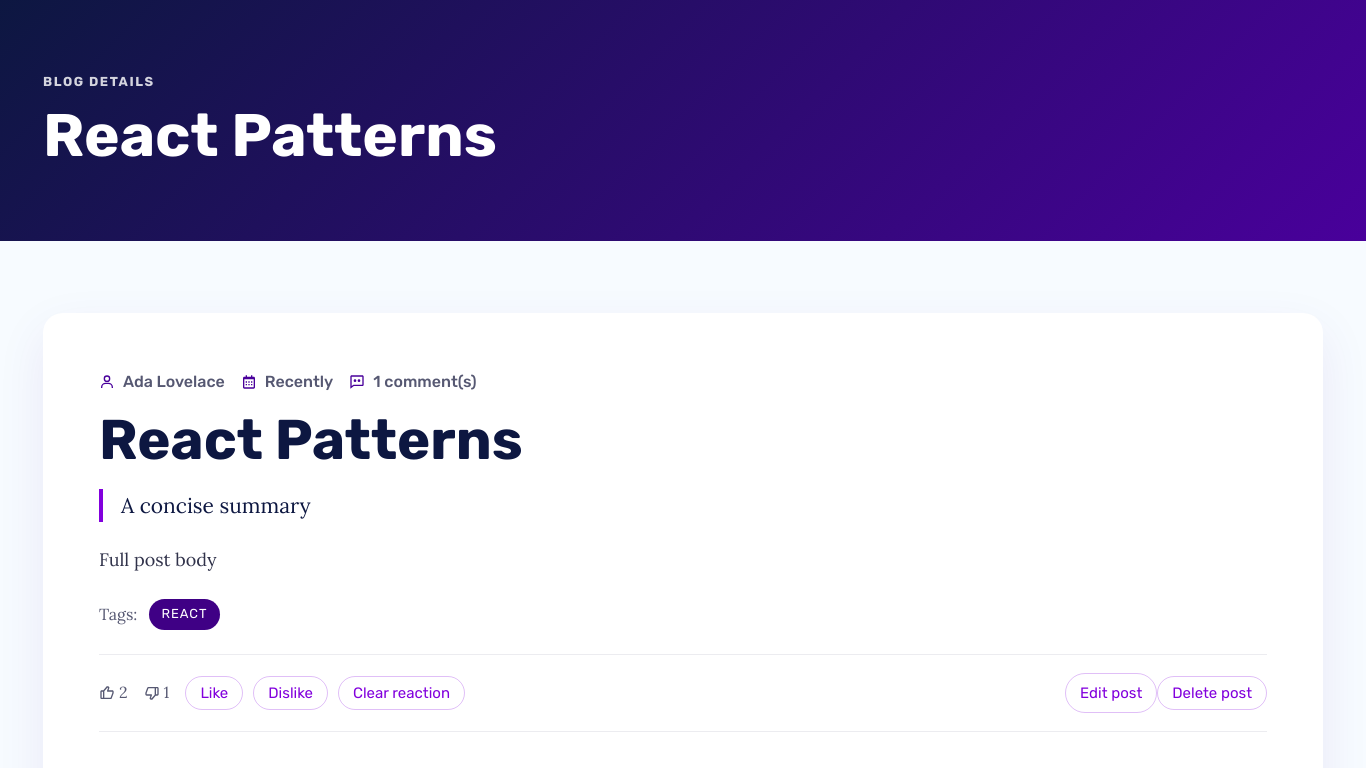
Test: SingleBlogPage workflows › shows delete failures without navigating away
Expected: the link "Edit post" is shown, [1065,673,1157,713]
Click the button "Delete post".
click(1212, 693)  # box [1157,676,1267,710]
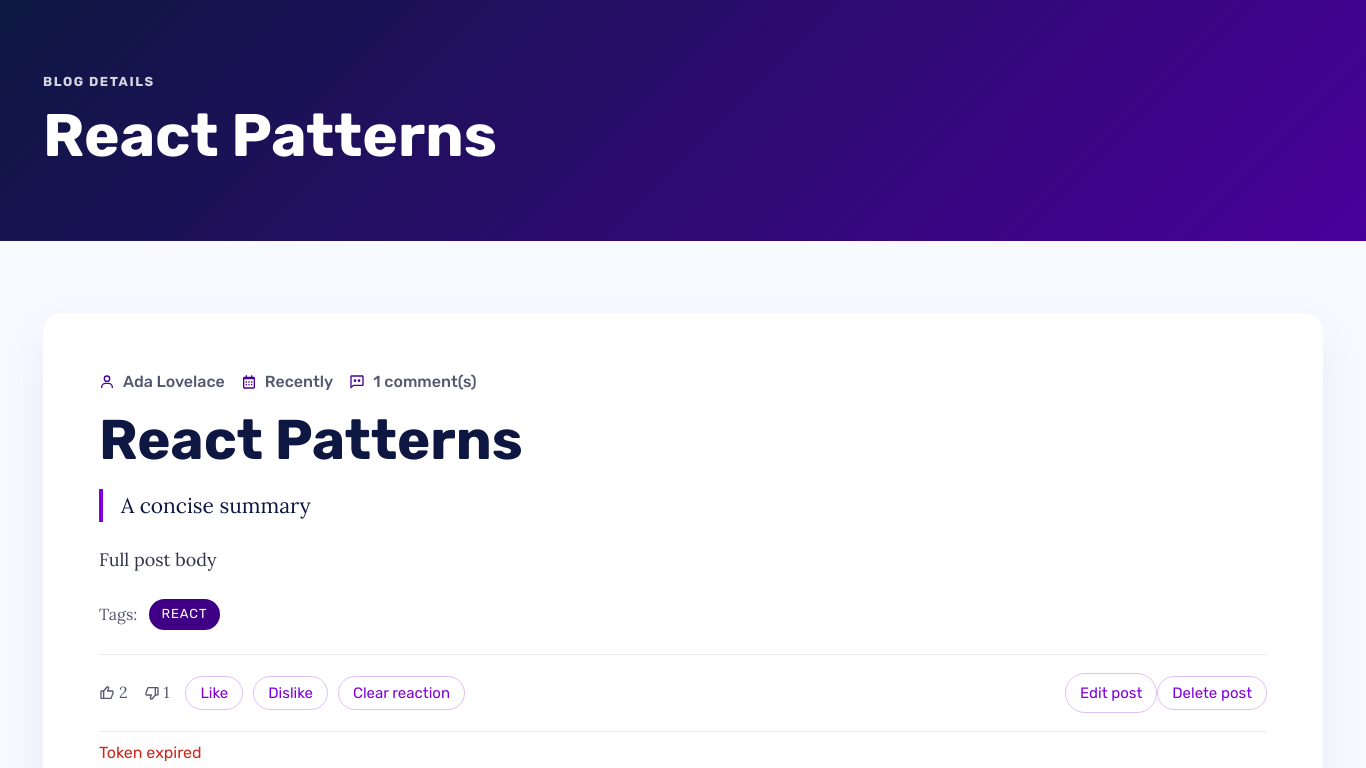
Expected: the text "Full post body" is shown, [99,548,216,572]
Now the message reads "Token expired", box [99,743,202,762]
